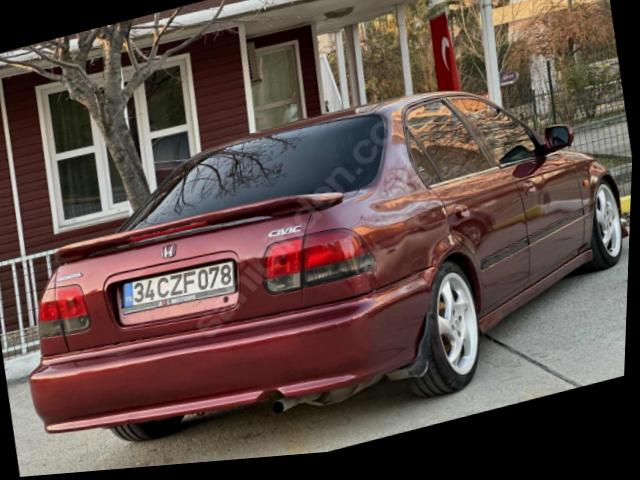plaka: (121, 260, 235, 314)
